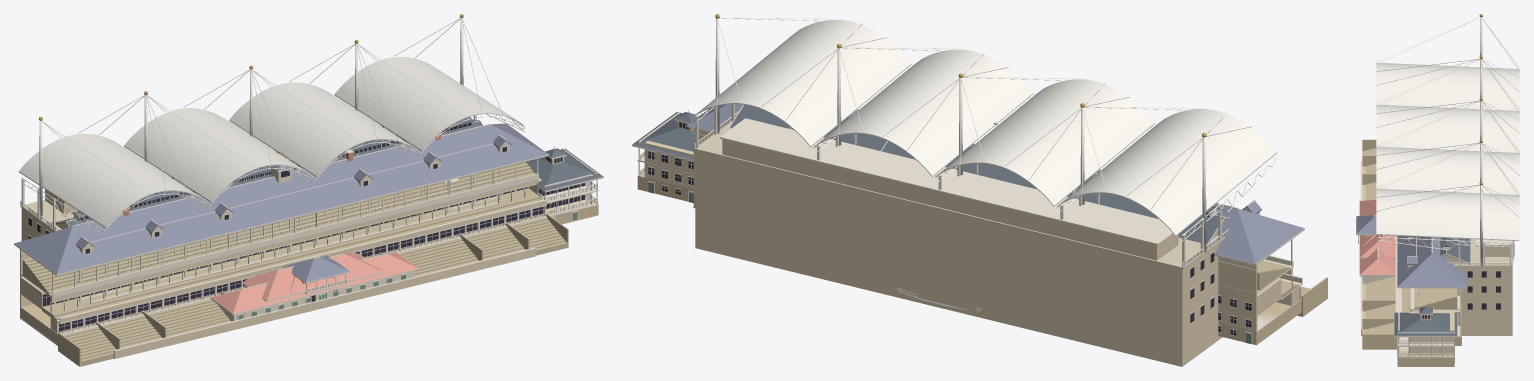
Rendered from rowley_stands.glb.
The picture shows the model from 3 angles, left to right: view 1: azimuth 30°, elevation 25°; view 2: azimuth 150°, elevation 25°; view 3: azimuth 270°, elevation 25°; orthographic projection. The views are drawn at different scales.
Parts seen in each view (by area): view 1: victorian_stand, millennium_stand, rowley_stand, stable_block, rowley_end, ring_pavilion, victorian_pavilion, ring_pavilion_small; view 2: millennium_stand, victorian_stand, rowley_stand, rowley_end, rowley_wing; view 3: millennium_stand, victorian_stand, stable_block, rowley_stand, ring_pavilion, rowley_end, victorian_pavilion.
Boxes of the visible parts, x1,y1,x2,y2 form: victorian_stand: [14, 123, 603, 366]; millennium_stand: [18, 14, 535, 359]; rowley_stand: [51, 117, 529, 349]; stable_block: [210, 252, 418, 321]; rowley_end: [120, 134, 483, 337]; ring_pavilion: [242, 252, 384, 302]; victorian_pavilion: [283, 255, 350, 301]; ring_pavilion_small: [289, 271, 361, 307]; millennium_stand: [692, 14, 1277, 366]; victorian_stand: [632, 104, 1327, 345]; rowley_stand: [728, 105, 1229, 244]; rowley_end: [789, 120, 1158, 218]; rowley_wing: [881, 141, 1076, 196]; millennium_stand: [1360, 14, 1519, 335]; victorian_stand: [1362, 139, 1466, 366]; stable_block: [1359, 200, 1395, 283]; rowley_stand: [1362, 155, 1471, 329]; ring_pavilion: [1360, 210, 1395, 259]; rowley_end: [1362, 173, 1471, 311]; victorian_pavilion: [1356, 214, 1377, 243].
Bounding box in the file's own units: 145 × 47.95 × 46.2.
